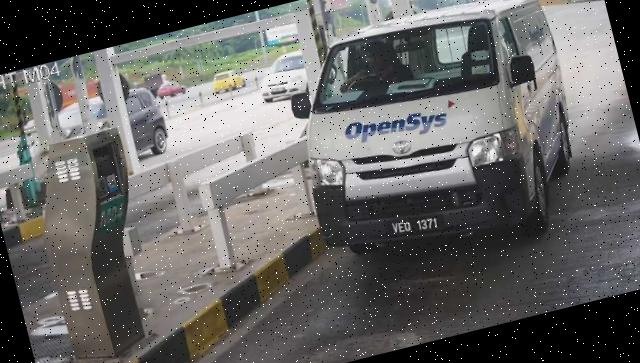License_Plate: (383, 206, 451, 249)
van: (277, 1, 598, 283)
